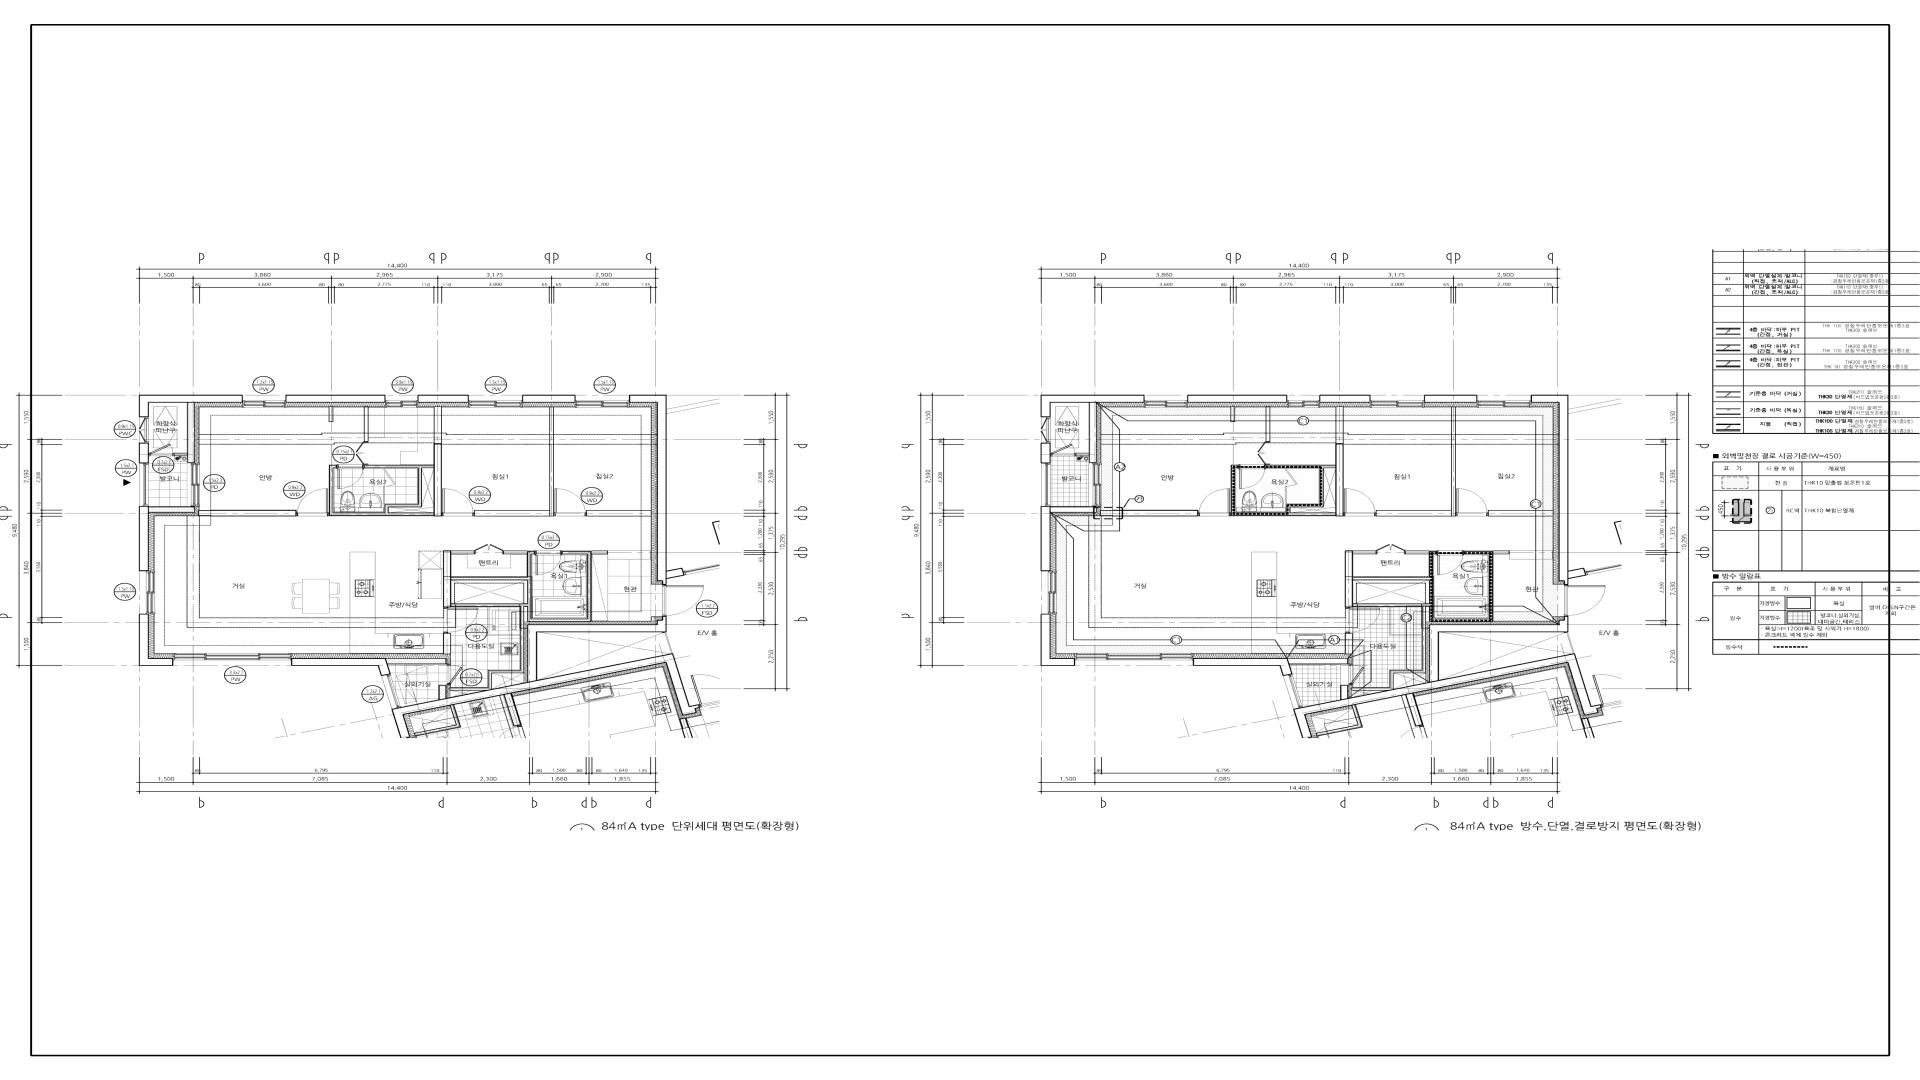door: (1564, 584, 1606, 616), (662, 585, 705, 616), (297, 488, 330, 517), (443, 607, 479, 633), (1345, 607, 1381, 633), (442, 489, 475, 517), (554, 488, 587, 516), (1456, 488, 1489, 516), (1199, 488, 1230, 516), (1344, 488, 1375, 516), (535, 550, 562, 576), (336, 464, 364, 489), (1238, 464, 1266, 489), (1437, 550, 1464, 575), (1284, 469, 1298, 504), (447, 665, 463, 686), (149, 443, 174, 456), (1349, 665, 1365, 684), (475, 543, 504, 554), (1051, 444, 1076, 456), (356, 442, 368, 465), (1377, 545, 1406, 554), (1258, 442, 1270, 464), (384, 468, 396, 487)
wall: (392, 616, 700, 738), (1294, 617, 1568, 717), (451, 551, 592, 629), (629, 394, 686, 585), (475, 407, 554, 517), (1531, 394, 1568, 584), (1040, 396, 1143, 463), (1352, 607, 1425, 690), (1345, 551, 1431, 621), (1232, 464, 1336, 517), (328, 465, 434, 517), (450, 629, 525, 691), (1429, 551, 1493, 622), (1040, 506, 1096, 571), (1193, 658, 1348, 676), (138, 394, 243, 418), (138, 613, 174, 666), (291, 658, 390, 676), (1353, 580, 1429, 604), (1040, 613, 1075, 666), (1336, 407, 1344, 517), (285, 394, 385, 402), (1188, 394, 1287, 402), (138, 506, 149, 571), (198, 510, 297, 517), (1100, 510, 1199, 517), (434, 444, 442, 517), (1375, 510, 1451, 517), (187, 402, 195, 463), (443, 550, 451, 608), (1452, 407, 1456, 517), (522, 394, 576, 402), (587, 510, 651, 517), (1424, 394, 1477, 402), (418, 394, 469, 402), (386, 658, 447, 665), (1320, 394, 1370, 402), (1489, 510, 1552, 516), (149, 506, 195, 513), (434, 406, 442, 444), (138, 443, 149, 464), (1040, 443, 1051, 463), (364, 406, 369, 442), (1345, 633, 1353, 654), (443, 633, 451, 654), (1266, 407, 1270, 442), (438, 686, 447, 700), (524, 607, 529, 622), (328, 406, 334, 422), (1230, 407, 1236, 421), (502, 551, 527, 554), (1406, 551, 1429, 554), (451, 551, 475, 554), (1348, 686, 1352, 698), (1494, 551, 1510, 554), (592, 551, 608, 554)
window: (1075, 654, 1193, 665), (173, 653, 291, 661), (1040, 571, 1056, 615), (1283, 674, 1303, 708), (1370, 396, 1424, 407), (1478, 396, 1531, 407), (1089, 463, 1101, 506), (1145, 396, 1188, 407), (386, 674, 401, 708), (1040, 463, 1051, 506), (191, 463, 200, 506), (146, 571, 156, 615), (1287, 396, 1320, 407), (468, 401, 522, 407), (575, 401, 629, 407), (243, 401, 286, 407), (138, 417, 149, 443), (144, 464, 149, 506), (385, 401, 418, 407), (1042, 417, 1050, 443)
